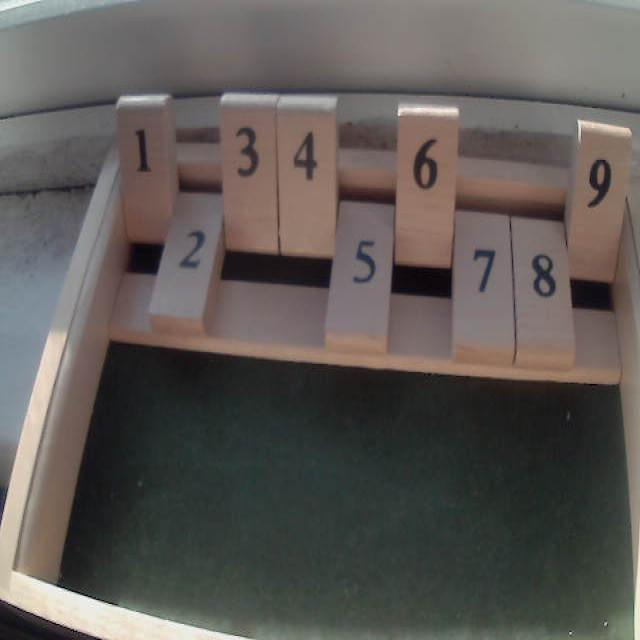C2: (151, 143, 214, 338)
C5: (327, 150, 391, 356)
C6: (391, 104, 459, 360)
C7: (456, 160, 512, 366)
C8: (512, 164, 574, 374)
O1: (112, 95, 170, 331)
O3: (218, 94, 278, 343)
O4: (279, 96, 337, 348)
O9: (573, 120, 632, 370)
